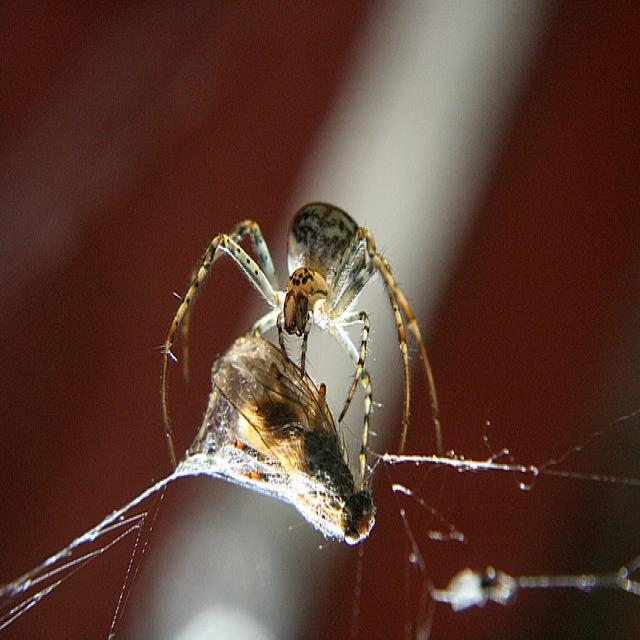spyder: (288, 203, 441, 457), (163, 221, 286, 353)
